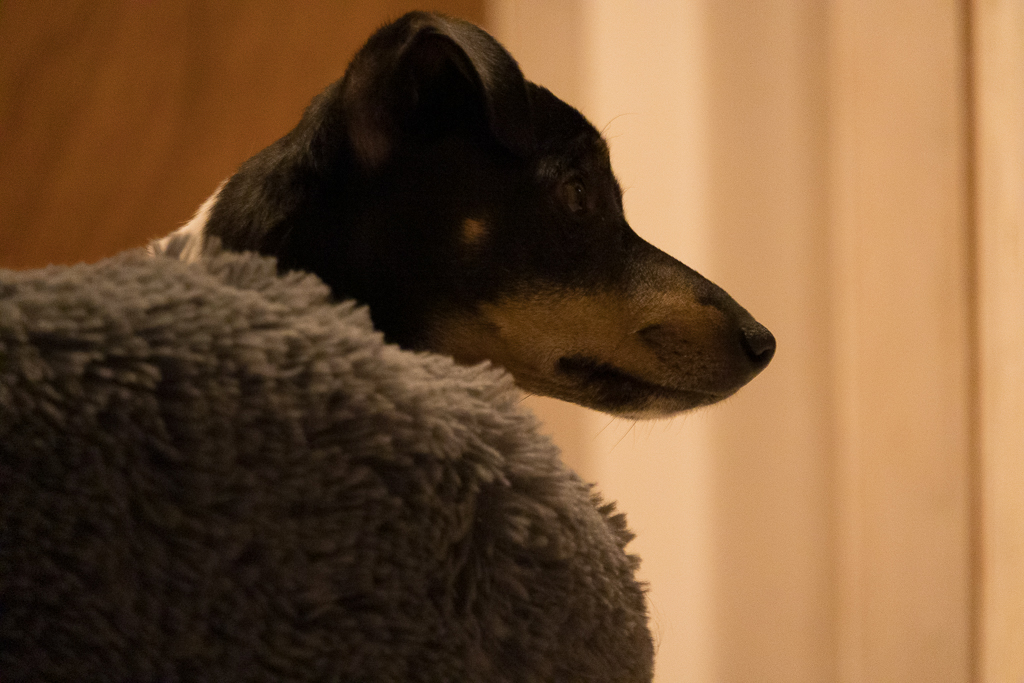Dog: (91, 0, 786, 441)
